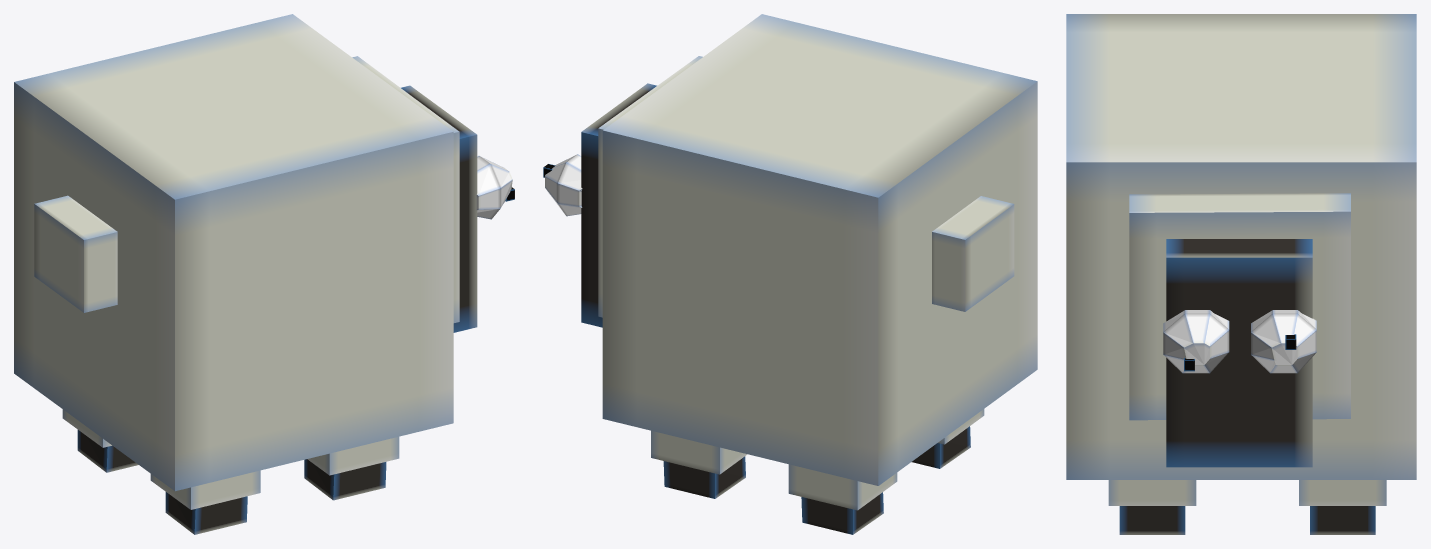
File: sheep_picoCAD2.obj
The picture shows the model from 3 angles, left to right: view 1: azimuth 30°, elevation 25°; view 2: azimuth 150°, elevation 25°; view 3: azimuth 270°, elevation 25°; orthographic projection. The views are drawn at different scales.
Parts seen in each view (by area): view 1: sheep_picoCAD2; view 2: sheep_picoCAD2; view 3: sheep_picoCAD2.
Boxes of the visible parts, x1,y1,x2,y2 form: sheep_picoCAD2: (14,14,514,534); sheep_picoCAD2: (543,14,1037,534); sheep_picoCAD2: (1066,14,1416,534).
Size of the model in its own units: 3.07 by 2.51 by 2.
